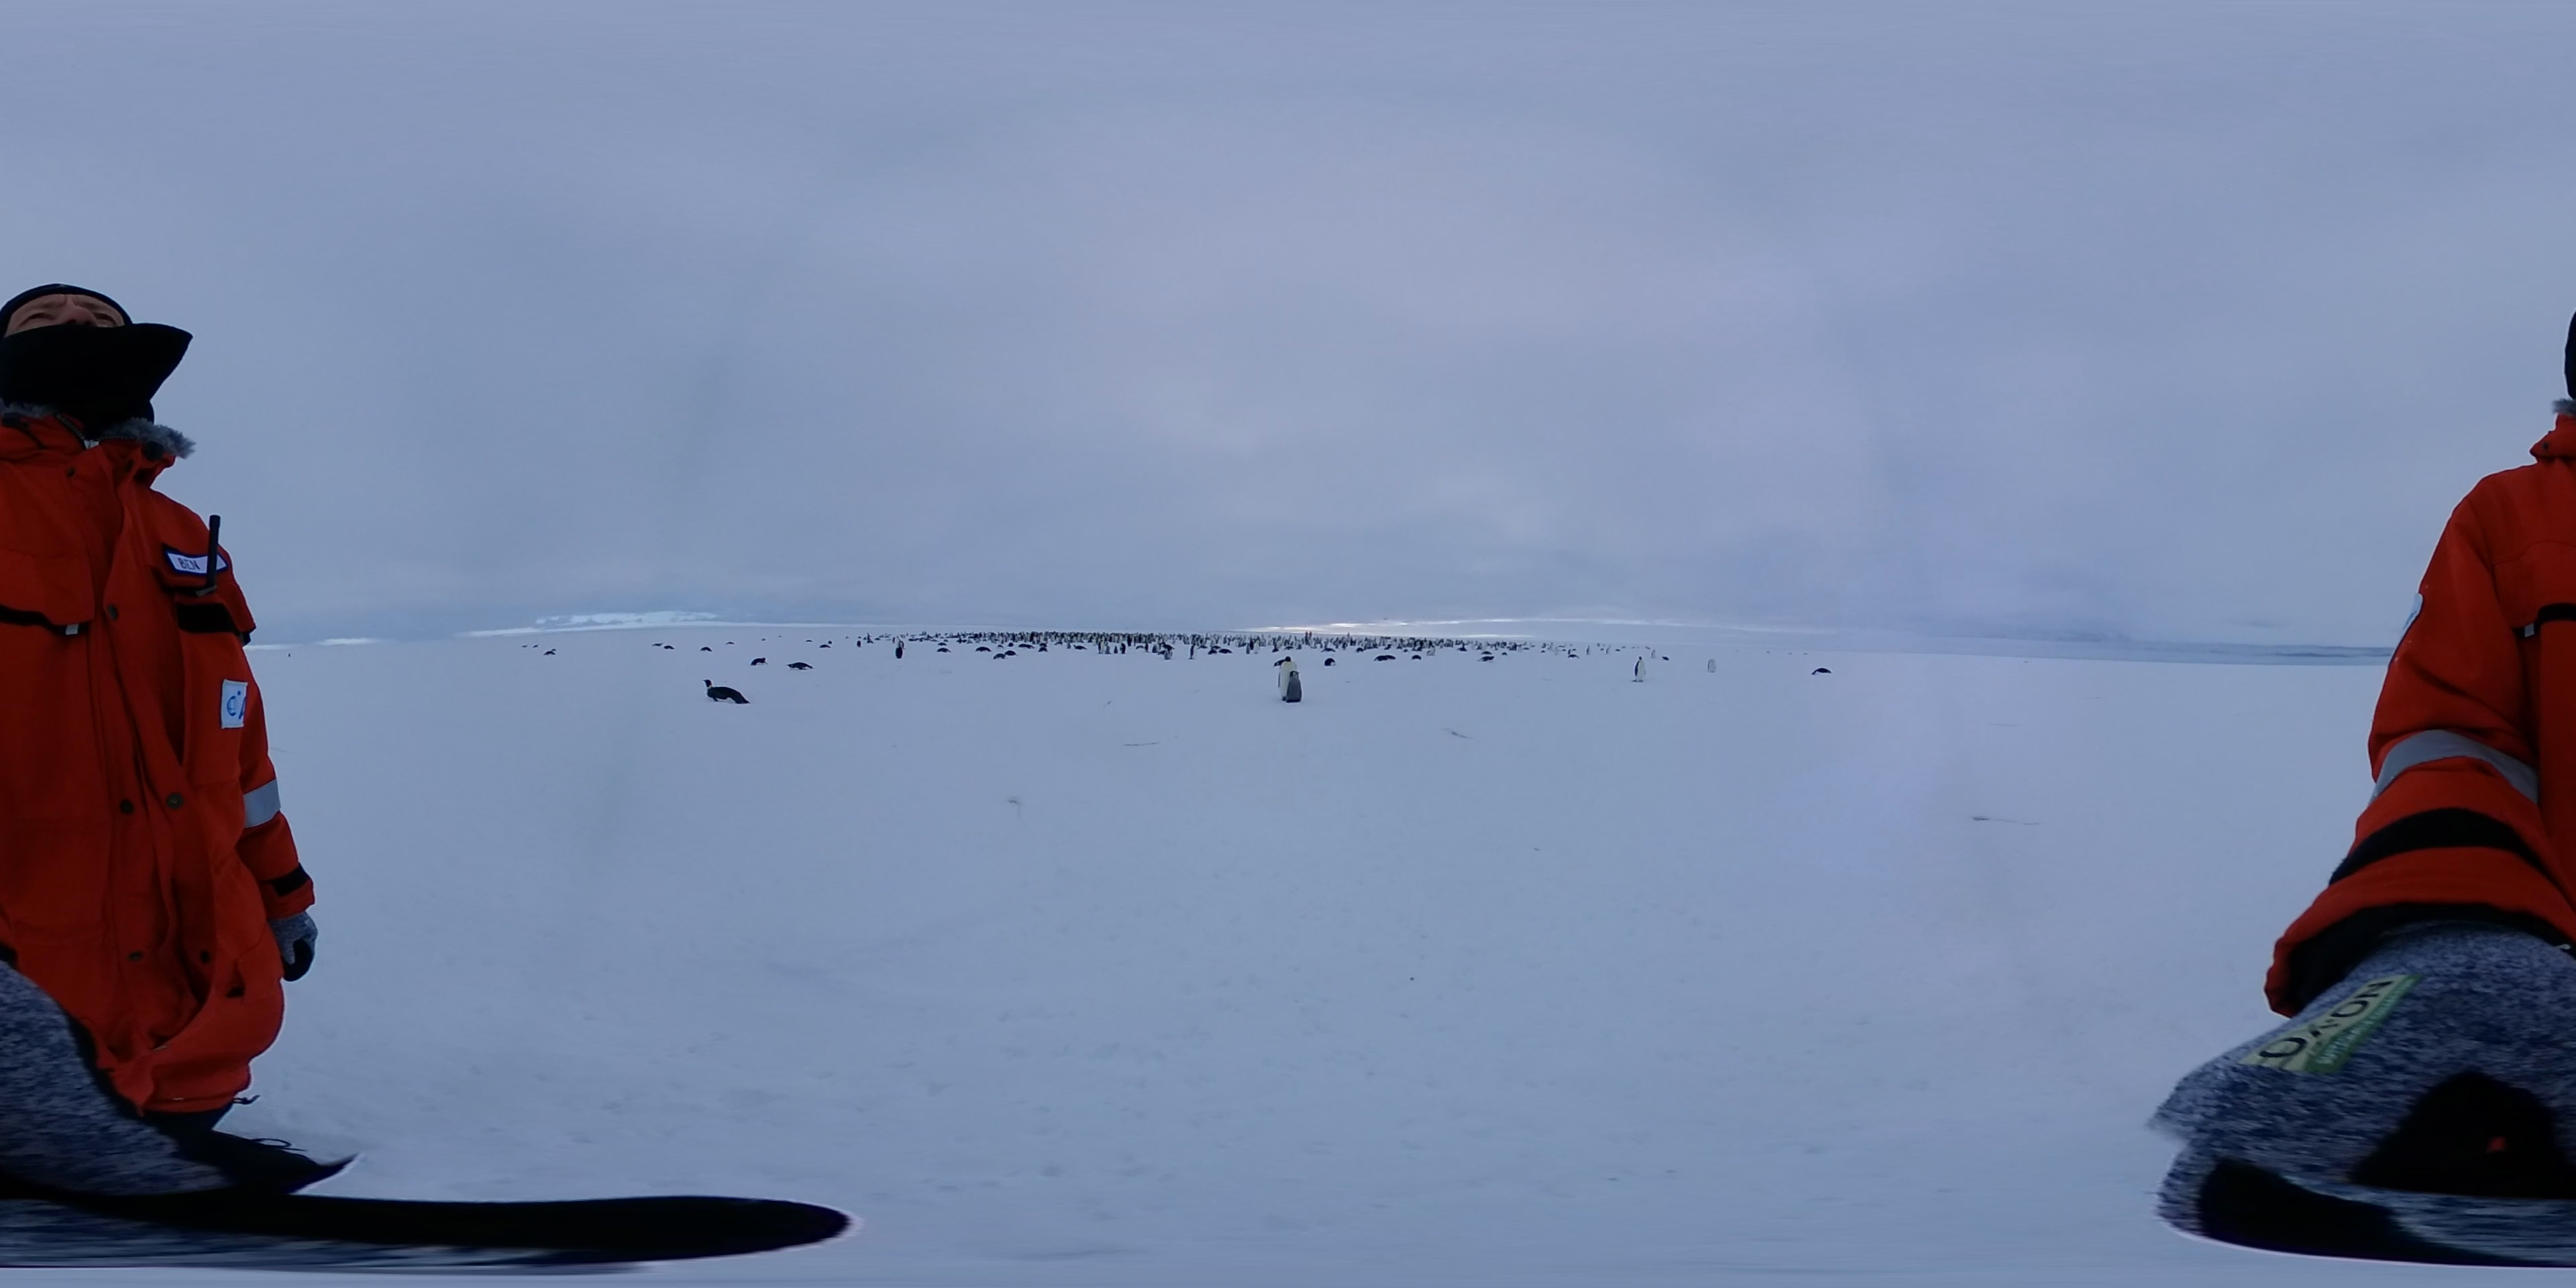adult_standing_penguin: (1275, 655, 1299, 701), (1633, 652, 1646, 685), (1709, 657, 1718, 670)
adult_toboggan_penguin: (703, 678, 746, 703), (784, 660, 815, 670), (1322, 654, 1341, 670), (1812, 665, 1835, 677), (747, 655, 769, 667)
juvenile_penguin: (1288, 670, 1304, 708)
researcher: (0, 253, 329, 1184), (2298, 266, 2576, 1214)
